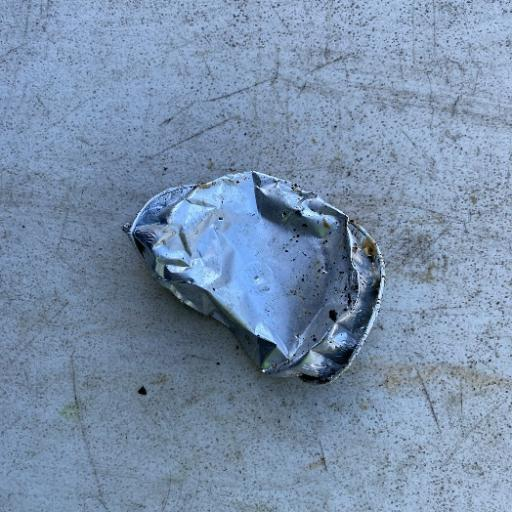Metal: (121, 168, 387, 386)
